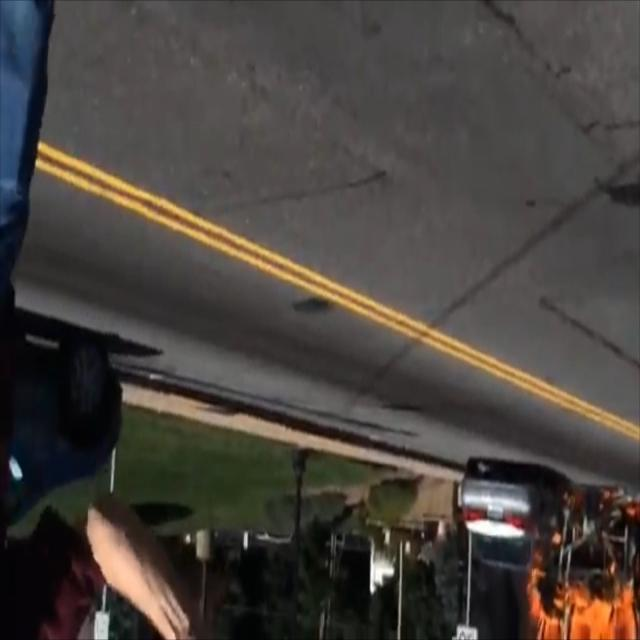fire: (525, 551, 640, 640)
